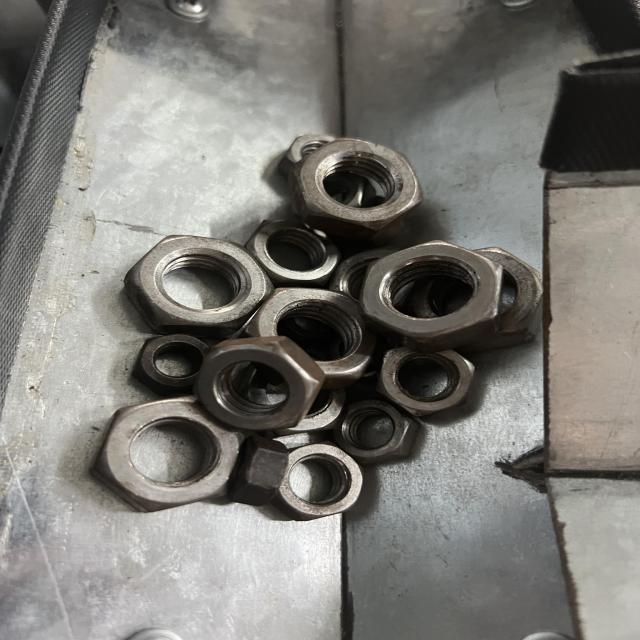nut: (100, 399, 239, 514), (361, 238, 502, 338), (124, 236, 270, 331), (289, 138, 425, 237), (196, 336, 322, 431)
